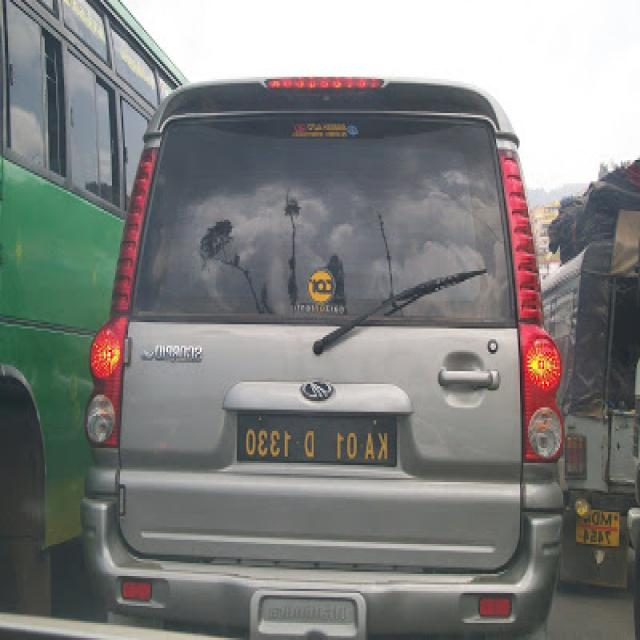number-plate: (226, 400, 410, 475)
